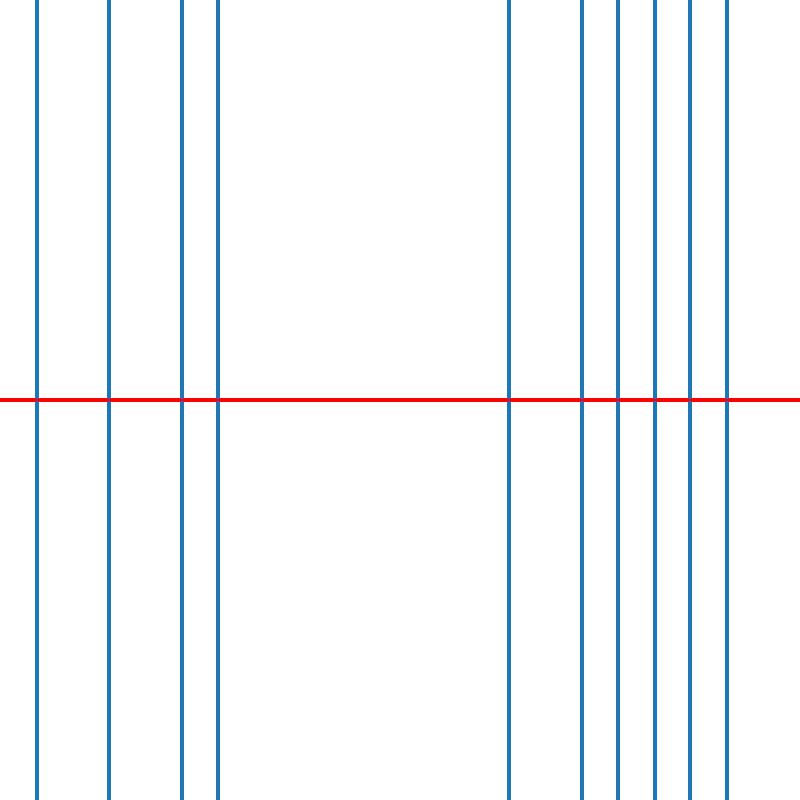root: (650, 396, 658, 404), (32, 396, 40, 404), (214, 396, 221, 404), (723, 396, 730, 404), (687, 396, 694, 404), (178, 396, 185, 404), (578, 396, 585, 404), (505, 396, 512, 404), (614, 396, 621, 404), (105, 396, 112, 404)
